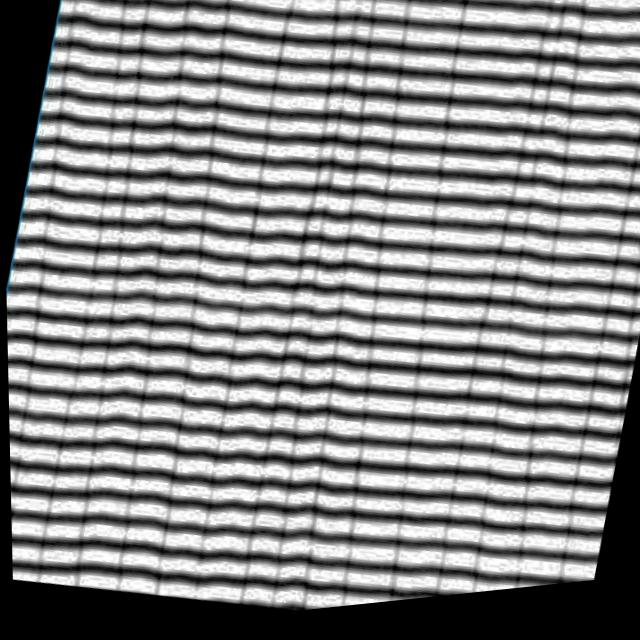Stitch: (552, 6, 640, 395)
